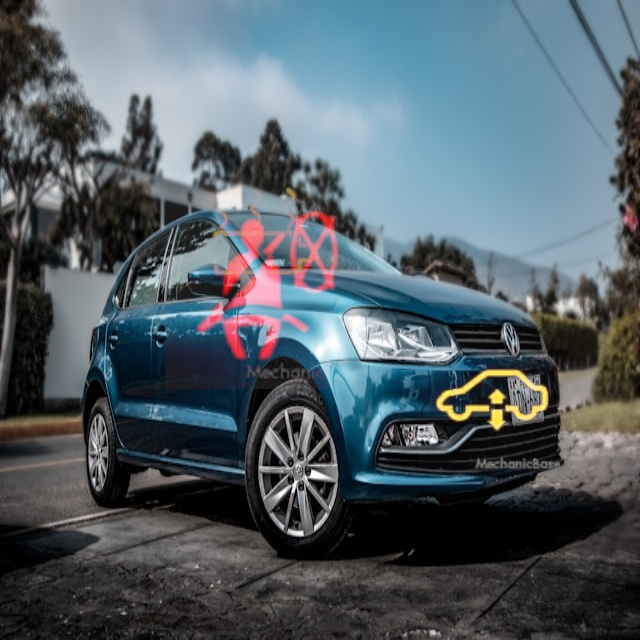symbol: (153, 127, 364, 338), (165, 182, 372, 389), (418, 328, 566, 476)
